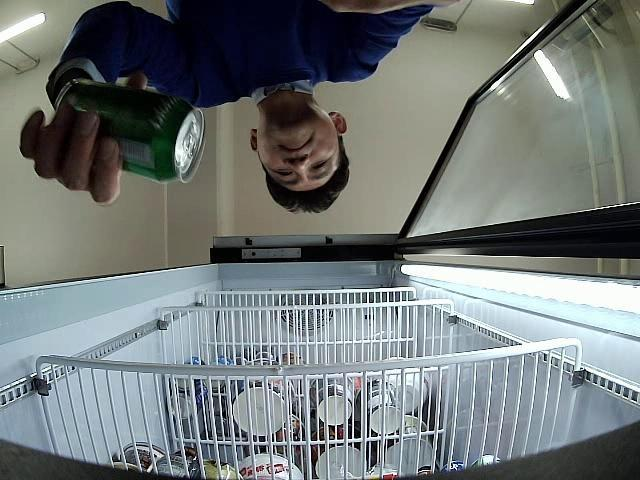12_chilsungCider: (56, 77, 206, 184)
